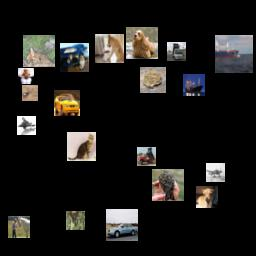airplane: (206, 163, 225, 182), (17, 116, 36, 135)
automobile: (106, 209, 138, 241), (60, 43, 89, 72), (54, 90, 80, 116)
bird: (152, 169, 184, 201)
cat: (67, 132, 96, 161)
deer: (23, 35, 55, 67), (66, 211, 85, 230), (22, 85, 38, 101)
dog: (126, 27, 158, 59), (95, 34, 124, 63), (196, 186, 218, 208), (18, 68, 34, 84)
frog: (140, 67, 166, 93)
ship: (215, 35, 253, 73), (183, 74, 205, 96)
truck: (167, 42, 186, 61), (137, 147, 156, 166)
